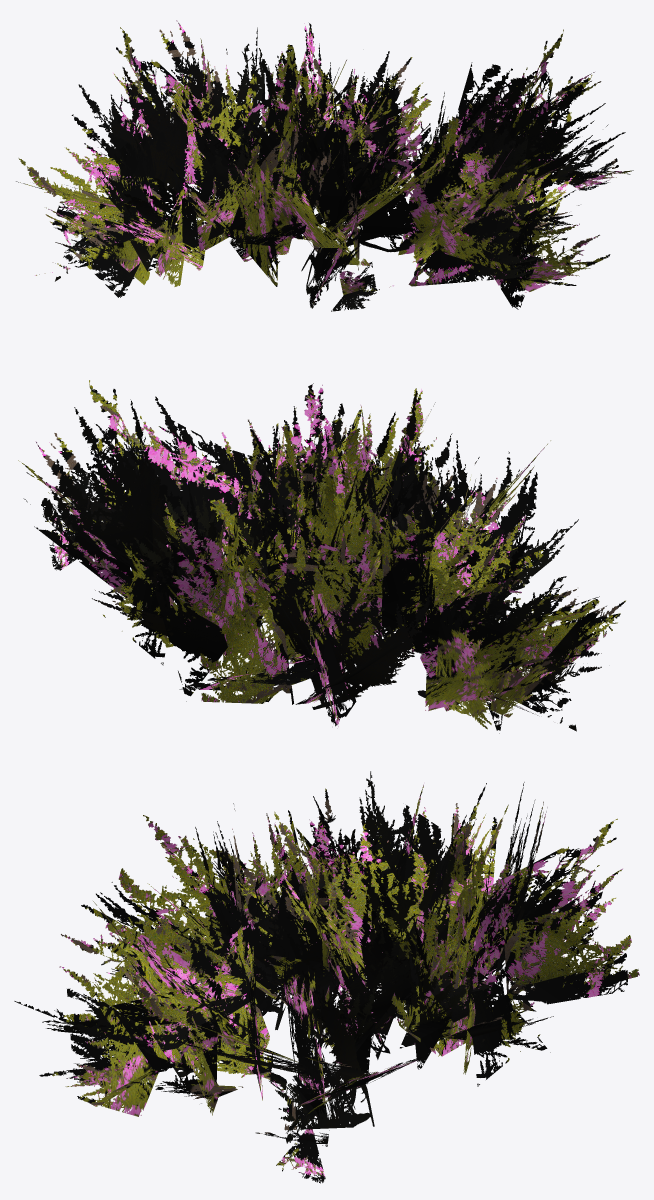
Rendered from heather_clump_01_LOD1.fbx.
3 views of the same model, one above another, from view 1: azimuth 30°, elevation 25°; view 2: azimuth 150°, elevation 25°; view 3: azimuth 270°, elevation 25° (orthographic). The views are drawn at different scales.
Parts seen in each view (by area): view 1: heather_clump_01_LOD1; view 2: heather_clump_01_LOD1; view 3: heather_clump_01_LOD1.
Part boxes in pixels (<box>): heather_clump_01_LOD1: <box>16,20,633,311</box>; heather_clump_01_LOD1: <box>18,380,625,733</box>; heather_clump_01_LOD1: <box>14,771,639,1183</box>.
Bounding box in the file's own units: 580 × 219 × 505.
